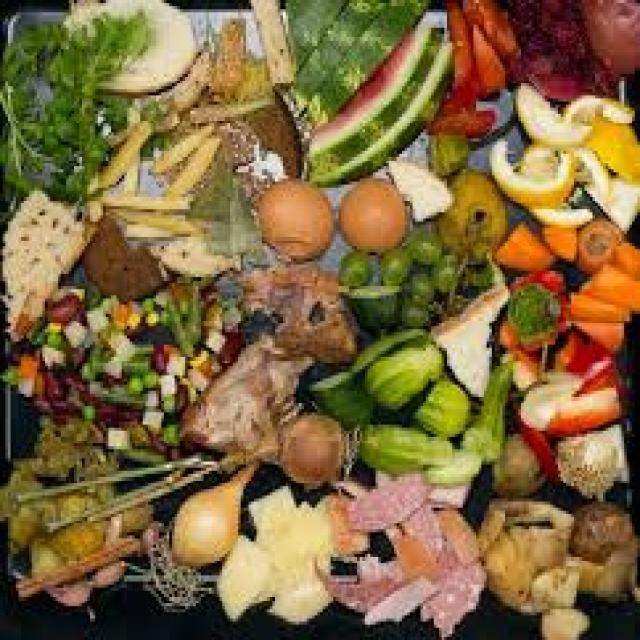food_waste: (57, 38, 607, 576)
